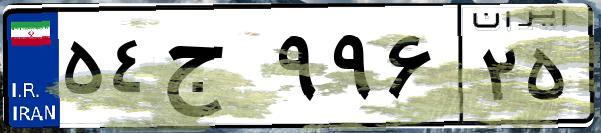2: (475, 38, 525, 113)
4: (110, 28, 158, 98)
5: (57, 26, 110, 100), (525, 38, 570, 115)
6: (385, 28, 445, 110)
9: (270, 28, 330, 110), (330, 28, 385, 110)
ج: (158, 20, 270, 120)
